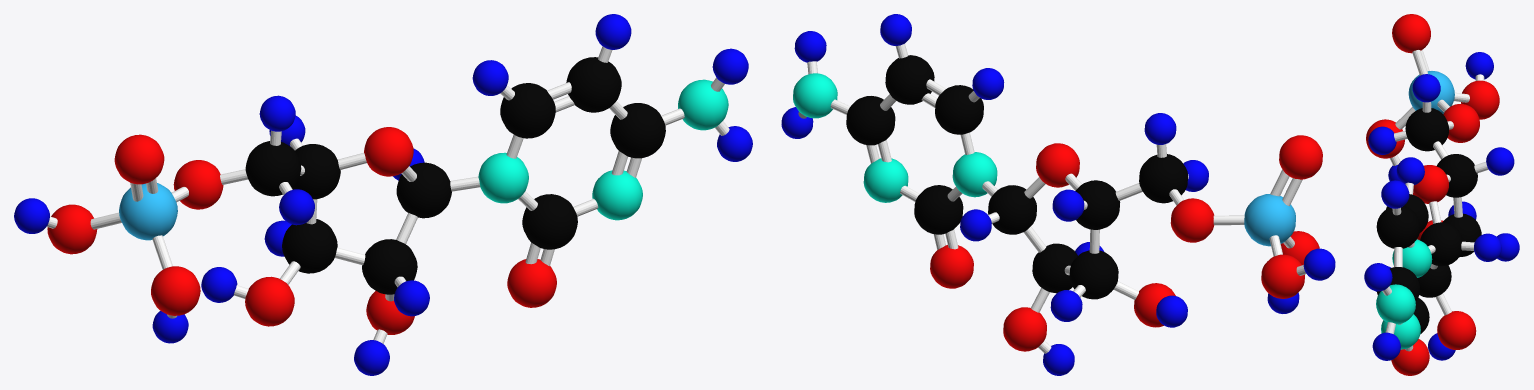
Rendered from citidina.obj.
The picture shows the model from 3 angles, left to right: view 1: azimuth 30°, elevation 25°; view 2: azimuth 150°, elevation 25°; view 3: azimuth 270°, elevation 25°; orthographic projection. The views are drawn at different scales.
Parts seen in each view (by area): view 1: fosforo_Shape_Sphere.001, carbono.008_Shape_Sphere.026, carbono.006_Shape_Sphere.025, carbono.007_Shape_Sphere.027, carbono_Shape_Sphere.029, carbono.005_Shape_Sphere.014, carbono.001_Shape_Sphere.008, carbono.003_Shape_Sphere.012, carbono.004_Shape_Sphere.013, nitrogenio.001_Shape_Sphere.023, oxigenio.001_Shape_Sphere.005, oxigenio.004_Shape_Sphere.006 (+21 smaller); view 2: fosforo_Shape_Sphere.001, carbono_Shape_Sphere.029, carbono.008_Shape_Sphere.026, carbono.006_Shape_Sphere.025, carbono.007_Shape_Sphere.027, carbono.003_Shape_Sphere.012, carbono.001_Shape_Sphere.008, carbono.005_Shape_Sphere.014, carbono.002_Shape_Sphere.009, carbono.004_Shape_Sphere.013, nitrogenio_Shape_Sphere.032, oxigenio.001_Shape_Sphere.005 (+22 smaller); view 3: carbono.001_Shape_Sphere.008, carbono.007_Shape_Sphere.027, carbono.005_Shape_Sphere.014, carbono.002_Shape_Sphere.009, oxigenio.007_Shape_Sphere.020, oxigenio.001_Shape_Sphere.005, nitrogenio_Shape_Sphere.032, oxigenio.003_Shape_Sphere.002, oxigenio.002_Shape_Sphere.003, oxigenio.005_Shape_Sphere.015, oxigenio_Shape_Sphere, nitrogenio.001_Shape_Sphere.023 (+20 smaller).
Part boxes in pixels (x1,y1,x2,y2): fosforo_Shape_Sphere.001: [119, 183, 177, 240]; carbono.008_Shape_Sphere.026: [522, 194, 577, 249]; carbono.006_Shape_Sphere.025: [500, 83, 555, 138]; carbono.007_Shape_Sphere.027: [566, 57, 621, 112]; carbono_Shape_Sphere.029: [610, 103, 665, 158]; carbono.005_Shape_Sphere.014: [396, 162, 451, 218]; carbono.001_Shape_Sphere.008: [245, 141, 301, 196]; carbono.003_Shape_Sphere.012: [282, 219, 337, 273]; carbono.004_Shape_Sphere.013: [362, 239, 417, 294]; nitrogenio.001_Shape_Sphere.023: [478, 152, 528, 203]; oxigenio.001_Shape_Sphere.005: [114, 134, 164, 184]; oxigenio.004_Shape_Sphere.006: [151, 266, 200, 315]; fosforo_Shape_Sphere.001: [1244, 194, 1295, 246]; carbono_Shape_Sphere.029: [846, 96, 895, 145]; carbono.008_Shape_Sphere.026: [914, 185, 963, 234]; carbono.006_Shape_Sphere.025: [935, 85, 983, 134]; carbono.007_Shape_Sphere.027: [885, 55, 934, 104]; carbono.003_Shape_Sphere.012: [1069, 250, 1118, 299]; carbono.001_Shape_Sphere.008: [1139, 154, 1187, 203]; carbono.005_Shape_Sphere.014: [988, 185, 1036, 234]; carbono.002_Shape_Sphere.009: [1075, 180, 1120, 229]; carbono.004_Shape_Sphere.013: [1032, 243, 1077, 293]; nitrogenio_Shape_Sphere.032: [793, 73, 837, 118]; oxigenio.001_Shape_Sphere.005: [1279, 135, 1322, 179]; carbono.001_Shape_Sphere.008: [1405, 108, 1448, 151]; carbono.007_Shape_Sphere.027: [1376, 206, 1420, 248]; carbono.005_Shape_Sphere.014: [1420, 222, 1462, 266]; carbono.002_Shape_Sphere.009: [1436, 154, 1477, 197]; oxigenio.007_Shape_Sphere.020: [1437, 311, 1476, 349]; oxigenio.001_Shape_Sphere.005: [1392, 14, 1430, 53]; nitrogenio_Shape_Sphere.032: [1376, 284, 1415, 324]; oxigenio.003_Shape_Sphere.002: [1443, 104, 1479, 142]; oxigenio.002_Shape_Sphere.003: [1461, 80, 1499, 119]; oxigenio.005_Shape_Sphere.015: [1413, 165, 1448, 203]; oxigenio_Shape_Sphere: [1391, 339, 1429, 375]; nitrogenio.001_Shape_Sphere.023: [1392, 239, 1432, 277].
Bounding box in the file's own units: 14.26 × 6.63 × 3.61.
